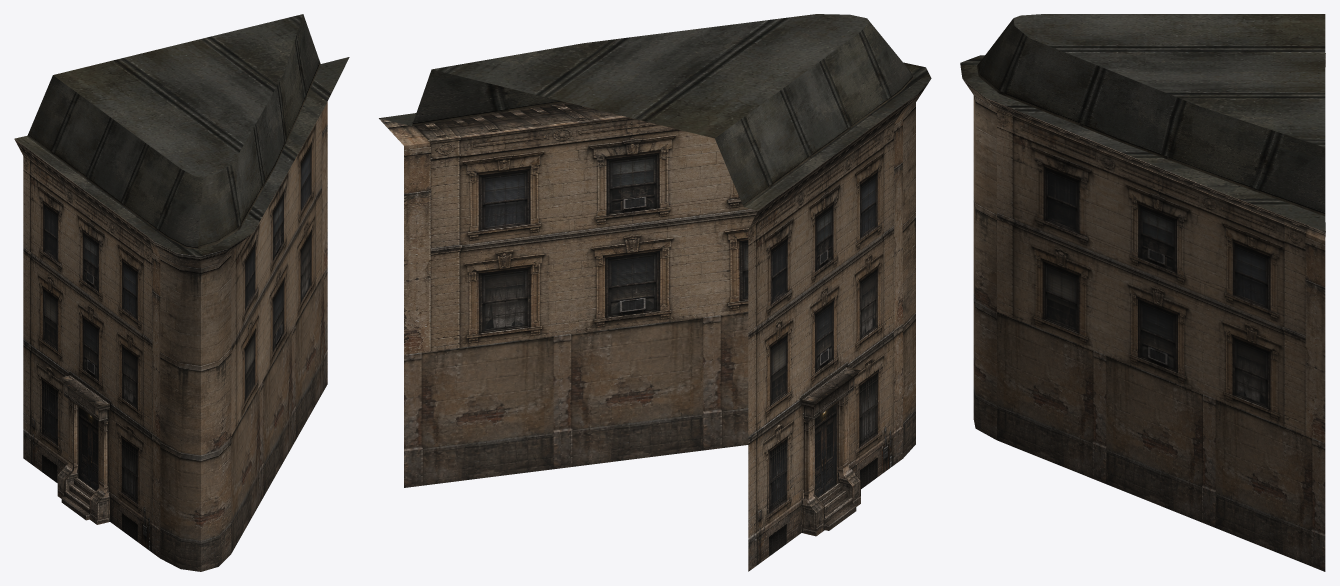
3 renders of one model, left to right at view 1: azimuth 30°, elevation 25°; view 2: azimuth 150°, elevation 25°; view 3: azimuth 270°, elevation 25°, orthographic. The views are drawn at different scales.
Visible parts, largest first — view 1: B012; view 2: B012; view 3: B012.
Part boxes in pixels (bbox=[...]): B012: bbox=[14, 14, 349, 571]; B012: bbox=[379, 14, 931, 571]; B012: bbox=[960, 14, 1325, 571].
Size of the model in its own units: 4.06 by 4.25 by 3.43.
